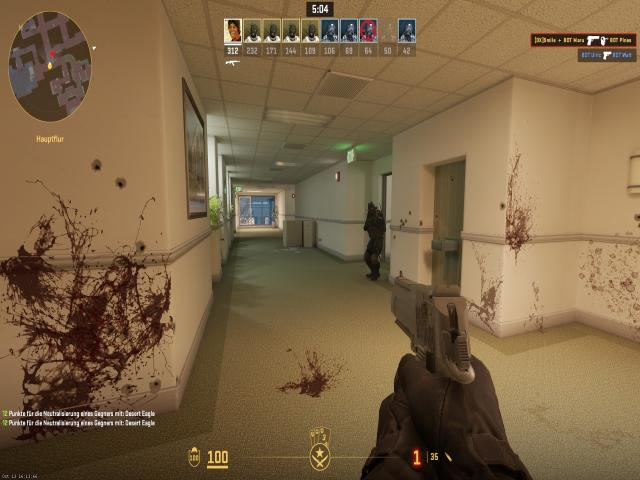CT: (365, 200, 387, 277)
CT-Head: (368, 202, 377, 214)
